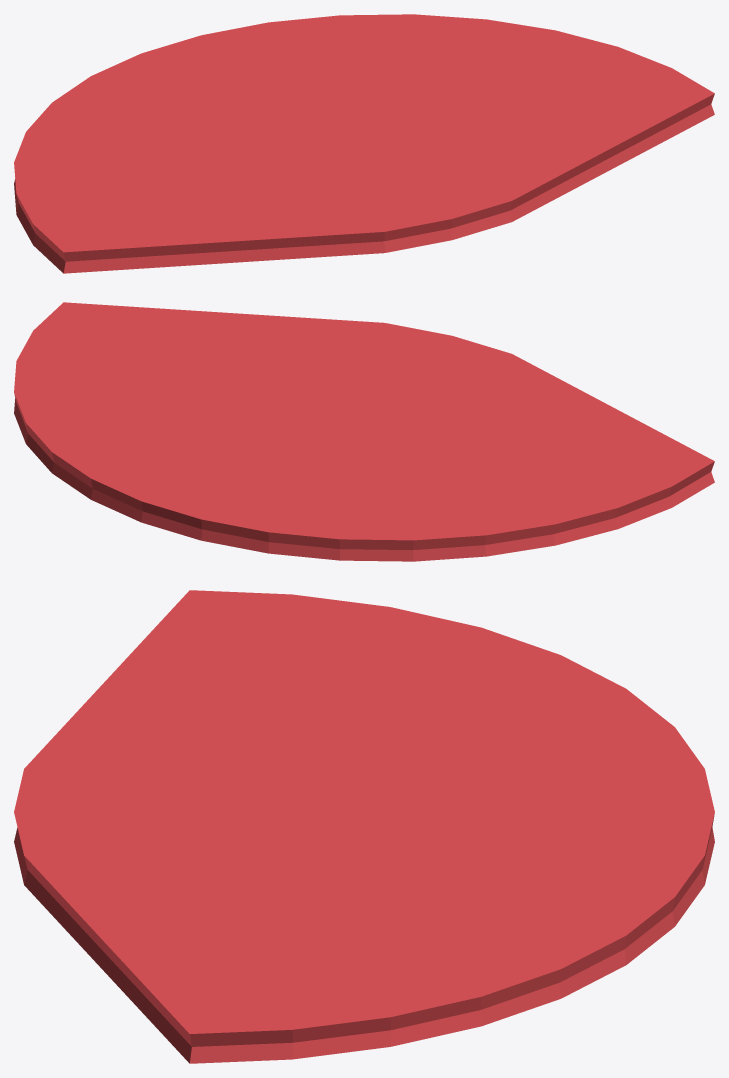
File: sensor.fbx
3 renders of one model, top to bottom at view 1: azimuth 30°, elevation 25°; view 2: azimuth 150°, elevation 25°; view 3: azimuth 270°, elevation 25°, orthographic. The views are drawn at different scales.
Parts seen in each view (by area): view 1: Circle; view 2: Circle; view 3: Circle.
Part boxes in pixels (x1=…): Circle: x1=14, y1=14, x2=714, y2=273; Circle: x1=14, y1=302, x2=714, y2=561; Circle: x1=14, y1=590, x2=714, y2=1063.
Size of the model in its own units: 200 by 6.24 by 133.
